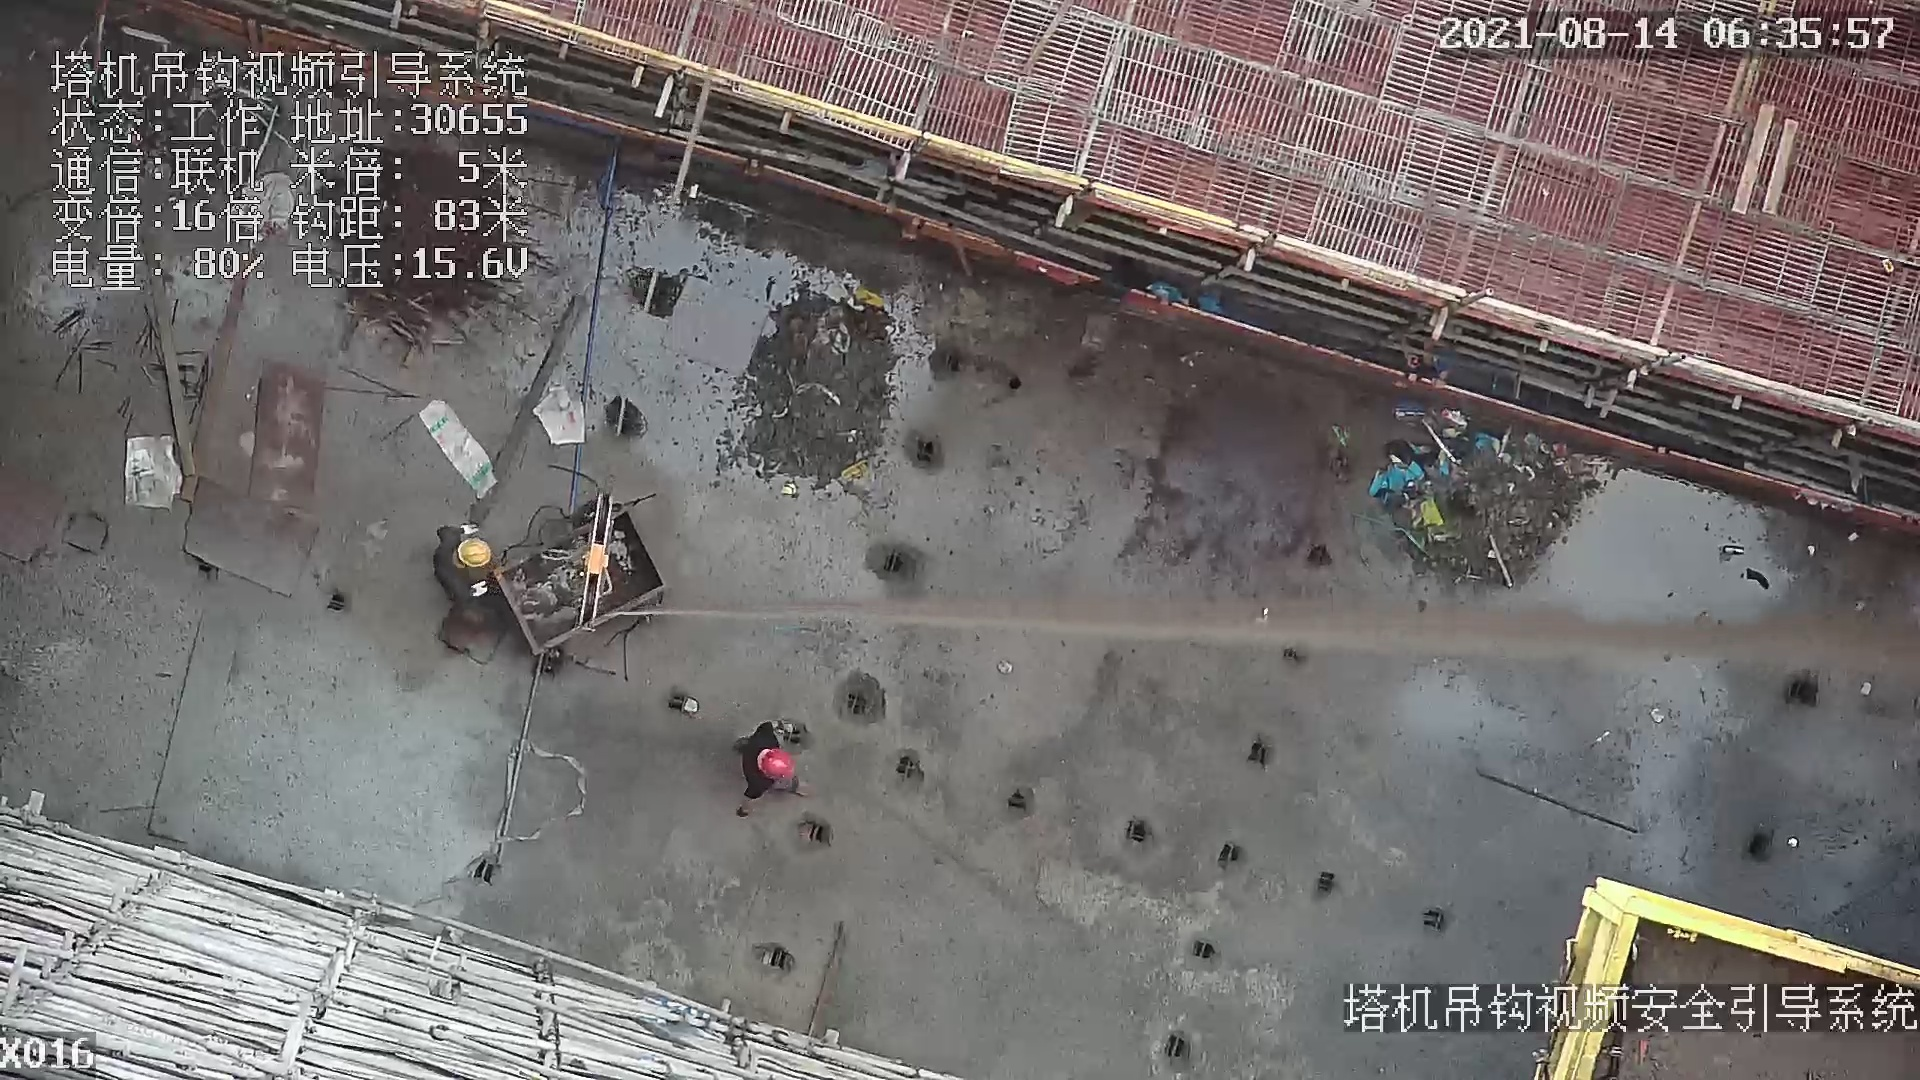helmet: (755, 742, 800, 787), (456, 536, 492, 571)
hook: (569, 491, 631, 624)
hopper: (468, 469, 672, 674)
person: (729, 714, 812, 818), (424, 518, 506, 615)
